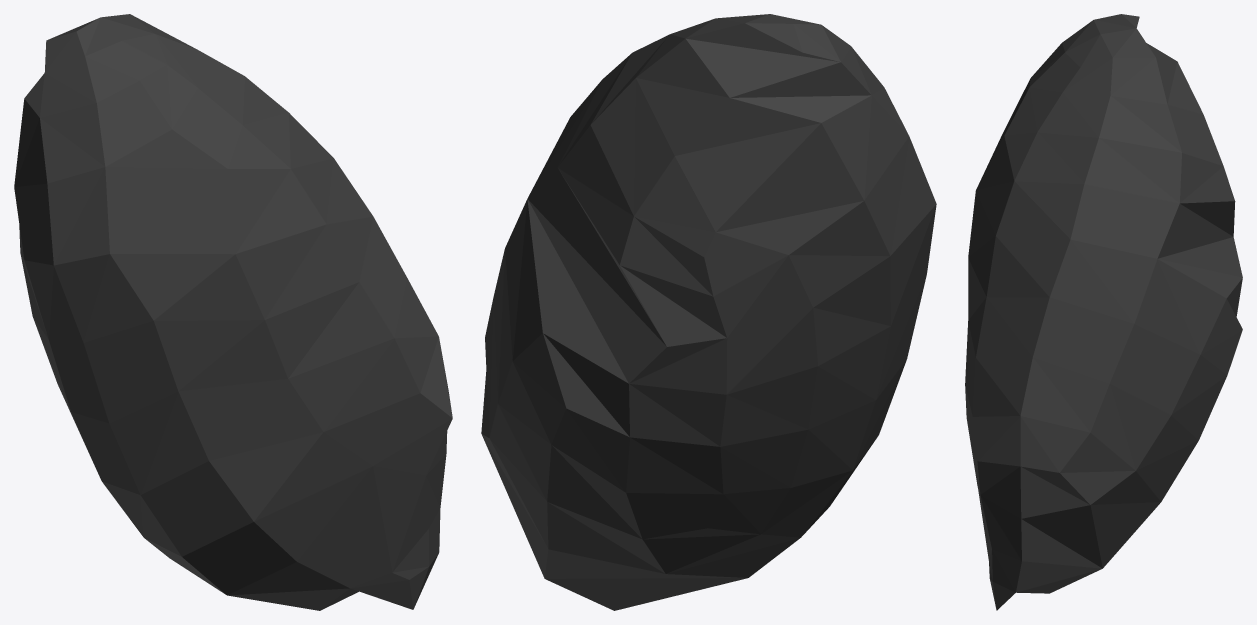
Rendered from RFL_humerus4.glb.
3 views of the same model, side by side, from view 1: azimuth 30°, elevation 25°; view 2: azimuth 150°, elevation 25°; view 3: azimuth 270°, elevation 25° (orthographic). The views are drawn at different scales.
Parts seen in each view (by area): view 1: RFL_humerus4; view 2: RFL_humerus4; view 3: RFL_humerus4.
Part boxes in pixels (<box>): RFL_humerus4: <box>14,14,452,610</box>; RFL_humerus4: <box>481,14,936,610</box>; RFL_humerus4: <box>965,14,1242,610</box>.
Size of the model in its own units: 5.23 by 7.73 by 3.91.
Materials: 1 (1 with a texture image).
